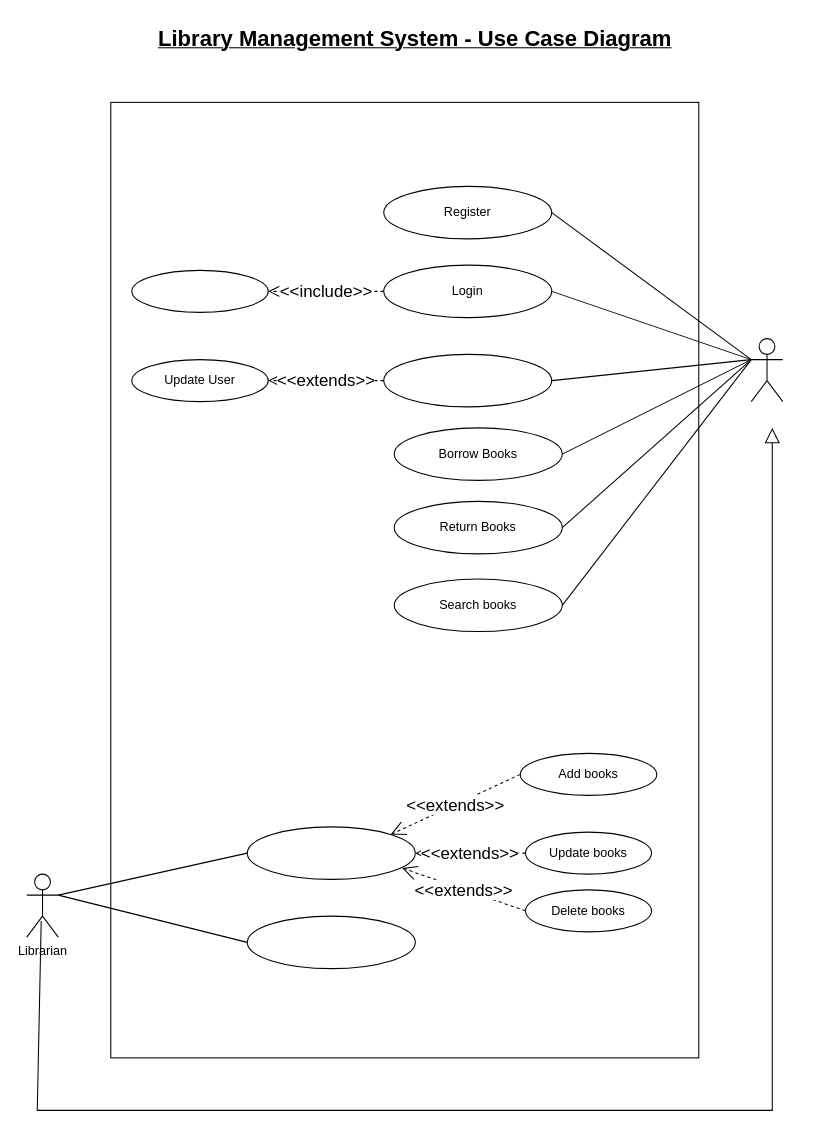
Some shapes in this 816 by 1143 pixel diagram are drawn without their labels. The shapes that lost their labels are listed below. From the top down, each one's box as (x1, y1, x2, y2) in pixels, then its label:
(131, 269, 268, 312): Validate Login
(383, 353, 552, 407): View User
(750, 338, 783, 402): Customers
(246, 826, 415, 879): View Books
(246, 915, 415, 969): View Users
